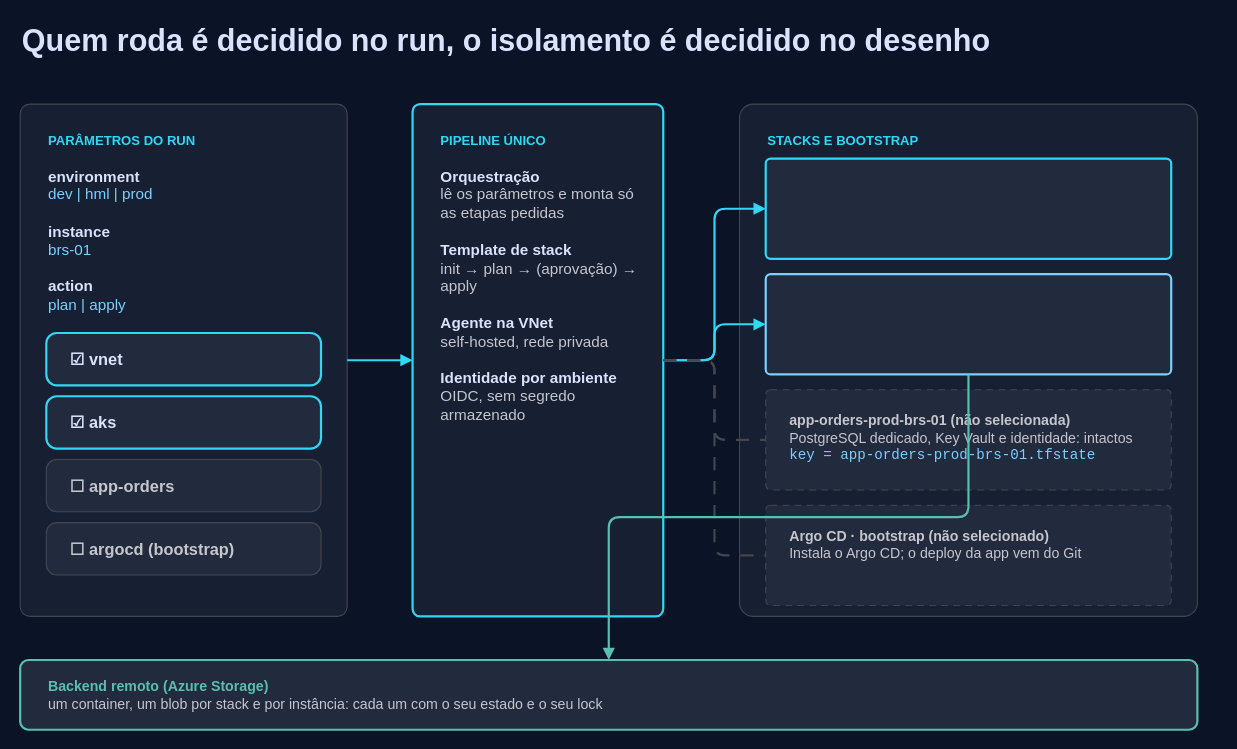
The diagram is 1237 pixels wide and 749 high, and some of its shapes have lost their labels. The shapes that lost their labels are listed below. From the top down, each one's centre as x and y in pixels, then its label:
At (968,208): "vnet-prod-brs-01 módulo network key = vnet-prod-brs-01.tfstate".
At (968,323): "aks-prod-brs-01 módulos aks e acr key = aks-prod-brs-01.tfstate".
